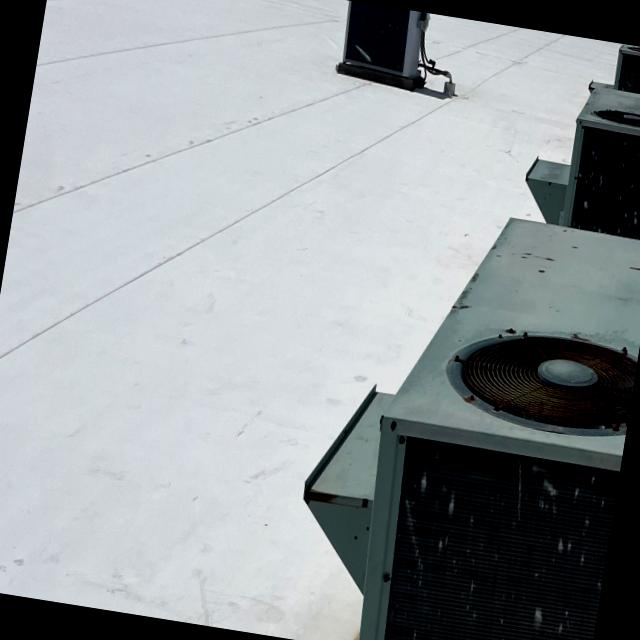RTU: (276, 174, 640, 640), (515, 69, 640, 257)
SPLIT-SYSTEM: (335, 0, 436, 86)
